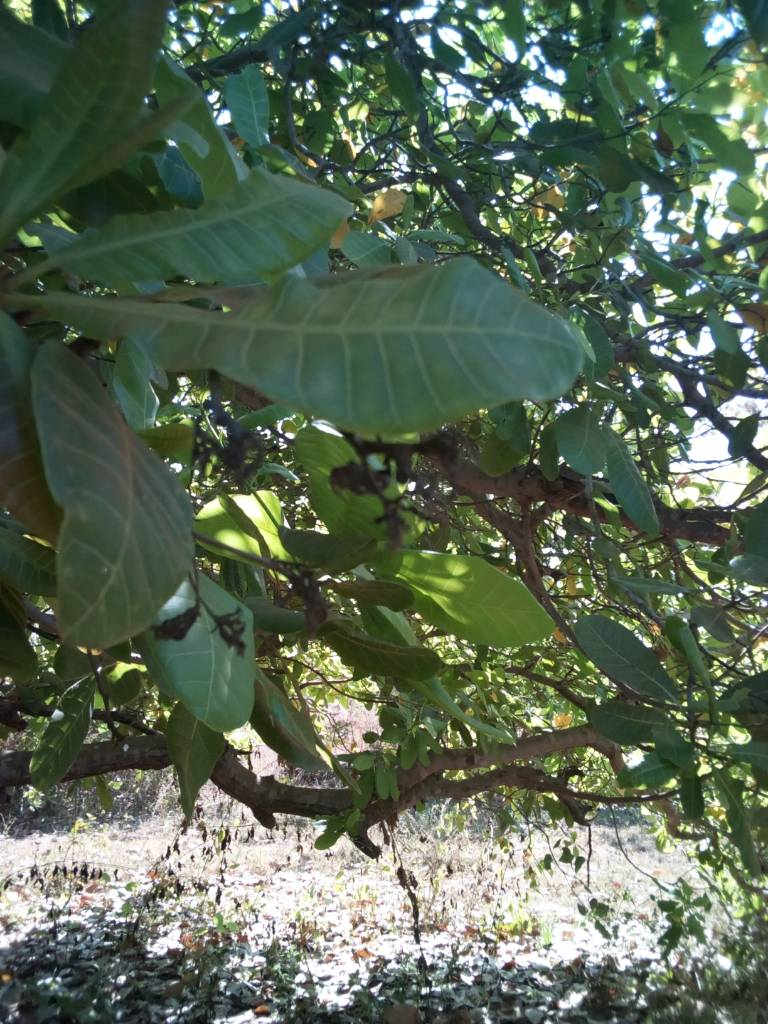Dessèchement des bourgeons: (329, 447, 410, 544), (189, 422, 272, 486), (157, 596, 246, 655)
